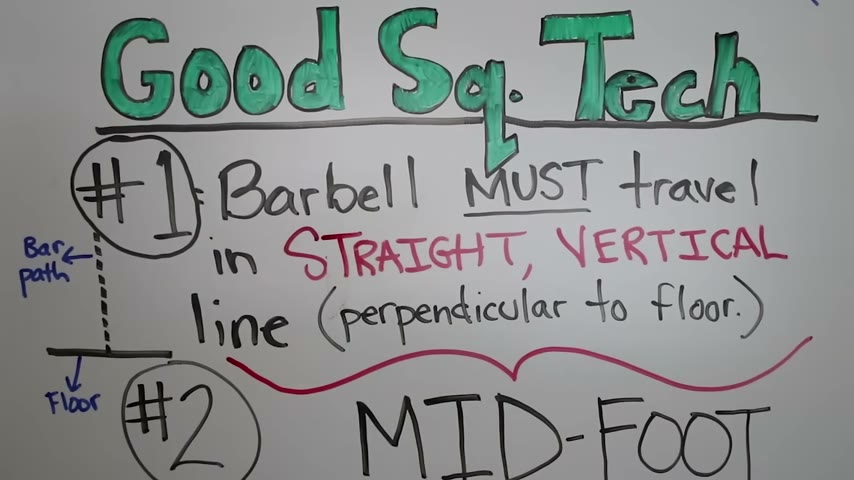barbell_plate_side: (62, 130, 135, 271), (114, 358, 187, 480), (247, 43, 289, 124)
